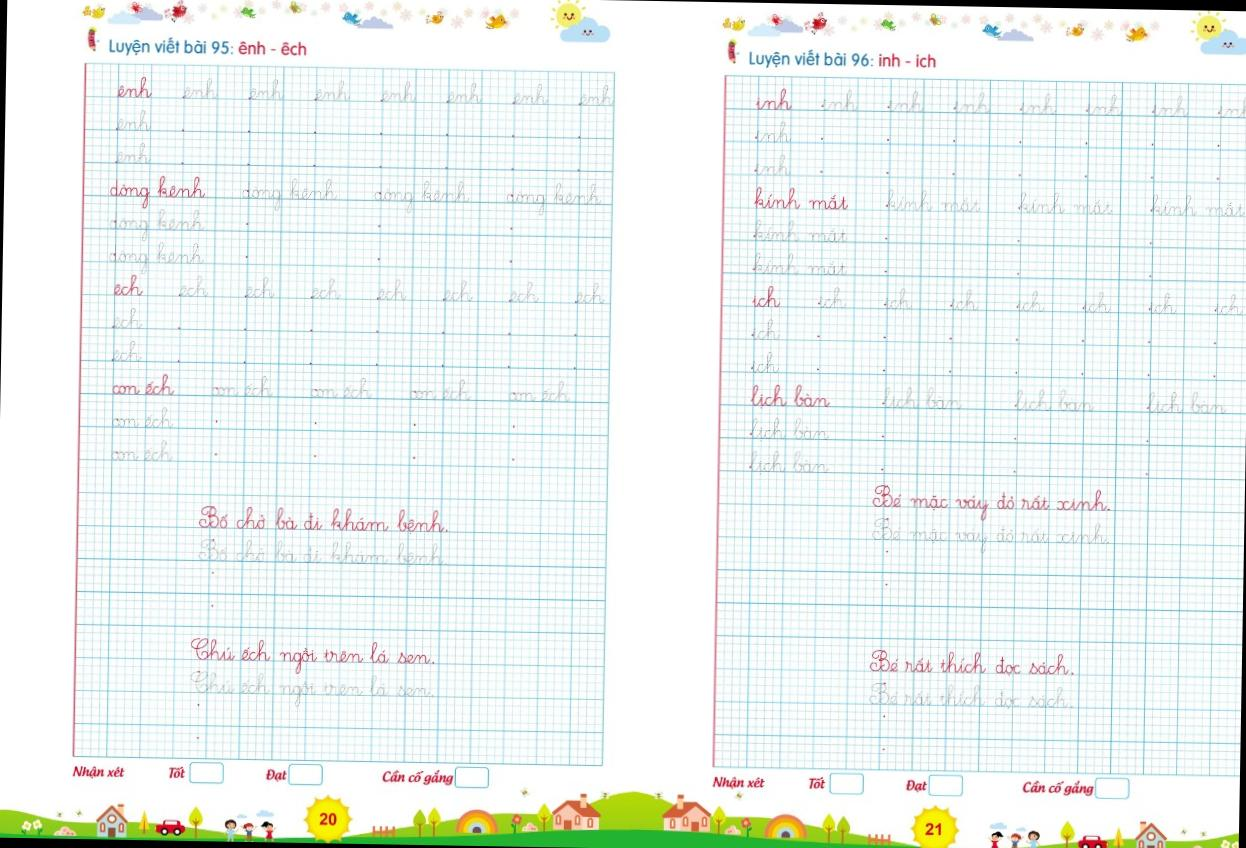text: (189, 632, 436, 676), (871, 516, 1112, 560), (869, 481, 1112, 524), (188, 668, 435, 710), (196, 536, 447, 570), (196, 503, 448, 535), (866, 679, 1074, 711), (867, 646, 1076, 677), (106, 31, 308, 60), (746, 45, 938, 71), (106, 169, 208, 212), (502, 180, 604, 220), (108, 238, 207, 278), (372, 176, 471, 215), (108, 206, 206, 244), (239, 174, 341, 210), (885, 184, 983, 216), (1148, 188, 1246, 219), (1016, 188, 1117, 218), (750, 248, 848, 278), (753, 184, 850, 213), (752, 215, 851, 242), (747, 382, 834, 410), (1144, 389, 1228, 418), (749, 414, 833, 443), (880, 384, 966, 412), (1012, 386, 1096, 414), (748, 448, 832, 475), (308, 373, 376, 402), (108, 371, 176, 399), (208, 372, 276, 399), (408, 376, 473, 404), (110, 404, 176, 431), (111, 437, 176, 464), (506, 379, 570, 406), (1148, 89, 1192, 120), (379, 768, 454, 786), (1083, 88, 1125, 120), (1016, 88, 1060, 118), (181, 72, 222, 104), (113, 102, 154, 134), (377, 76, 419, 106), (884, 86, 926, 115), (950, 86, 992, 115), (115, 69, 154, 100), (753, 85, 796, 113), (312, 76, 352, 106), (820, 84, 860, 114), (511, 77, 549, 108), (751, 150, 794, 177), (246, 75, 286, 103), (753, 116, 793, 144), (444, 78, 482, 106), (575, 80, 615, 106), (115, 138, 152, 166), (71, 762, 128, 780), (308, 274, 343, 303), (110, 338, 145, 367), (1211, 289, 1246, 318), (1216, 90, 1246, 122), (881, 282, 913, 312), (1080, 284, 1112, 314), (178, 272, 210, 301), (376, 275, 408, 304), (818, 282, 851, 310), (508, 279, 542, 306), (948, 283, 979, 312), (750, 316, 782, 344), (750, 283, 783, 310), (1014, 286, 1045, 314), (1147, 289, 1178, 317), (112, 273, 144, 300), (244, 274, 276, 301), (750, 349, 783, 375), (442, 278, 474, 304), (574, 281, 606, 307), (112, 306, 143, 332), (317, 808, 340, 827), (263, 770, 290, 783), (167, 766, 189, 780)
